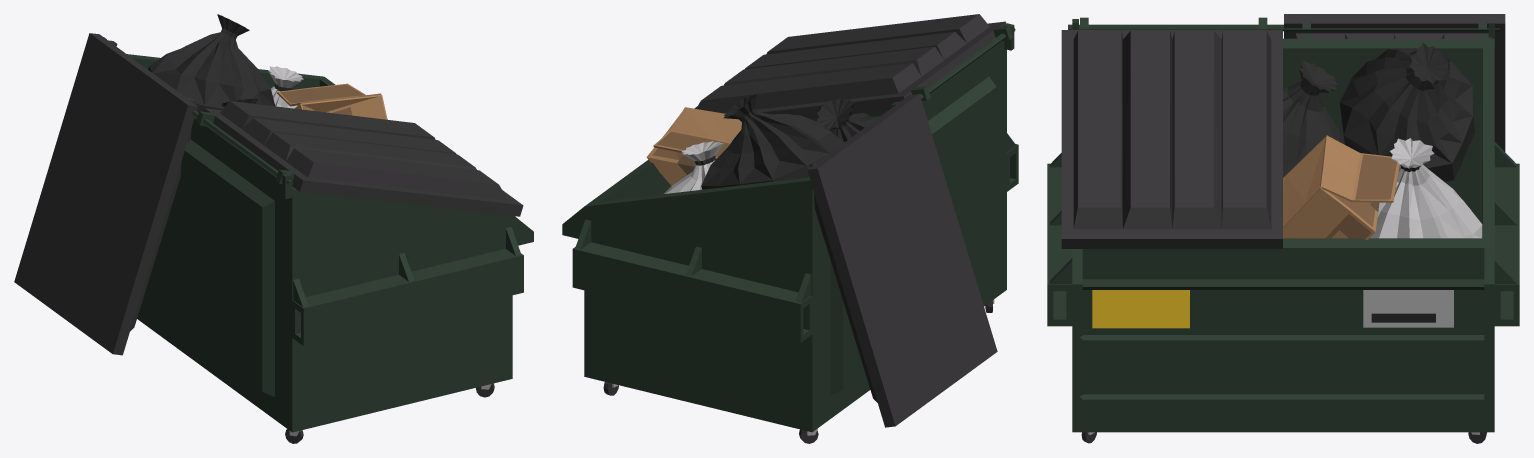
File: SM_trash_bin_bigOpen.gltf
3 views of the same model, side by side, from view 1: azimuth 30°, elevation 25°; view 2: azimuth 150°, elevation 25°; view 3: azimuth 270°, elevation 25° (orthographic). The views are drawn at different scales.
Parts seen in each view (by area): view 1: SM_trash_bin_bigOpen; view 2: SM_trash_bin_bigOpen; view 3: SM_trash_bin_bigOpen.
Boxes of the visible parts, x1=… form: SM_trash_bin_bigOpen: x1=14, y1=14, x2=533, y2=443; SM_trash_bin_bigOpen: x1=562, y1=14, x2=1018, y2=443; SM_trash_bin_bigOpen: x1=1047, y1=14, x2=1519, y2=443.
Size of the model in its own units: 2.12 by 1.86 by 2.37.
1 material, 1 textured.
